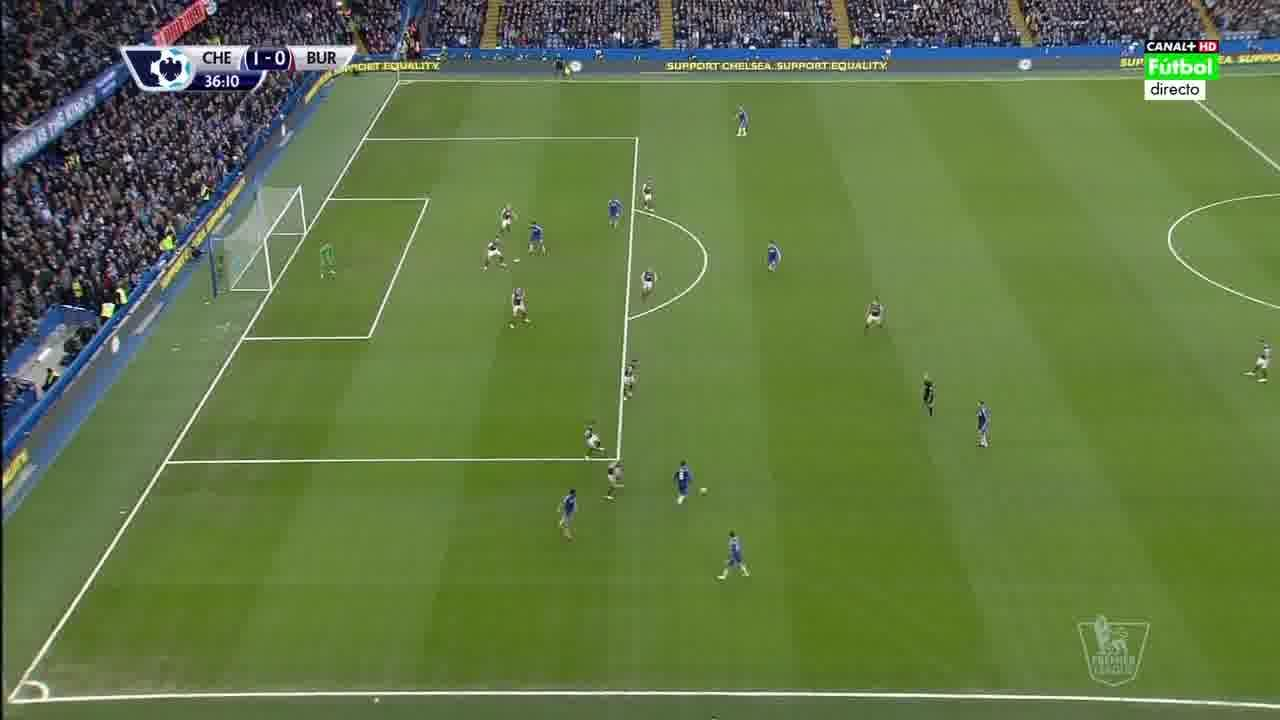football: (699, 488, 709, 496)
